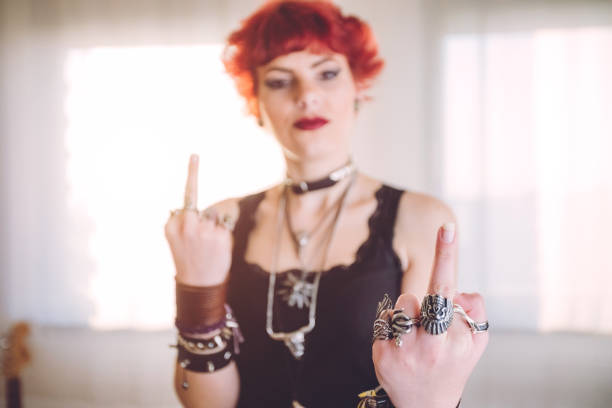insulting_gesture: (368, 222, 489, 408), (161, 149, 242, 281)
